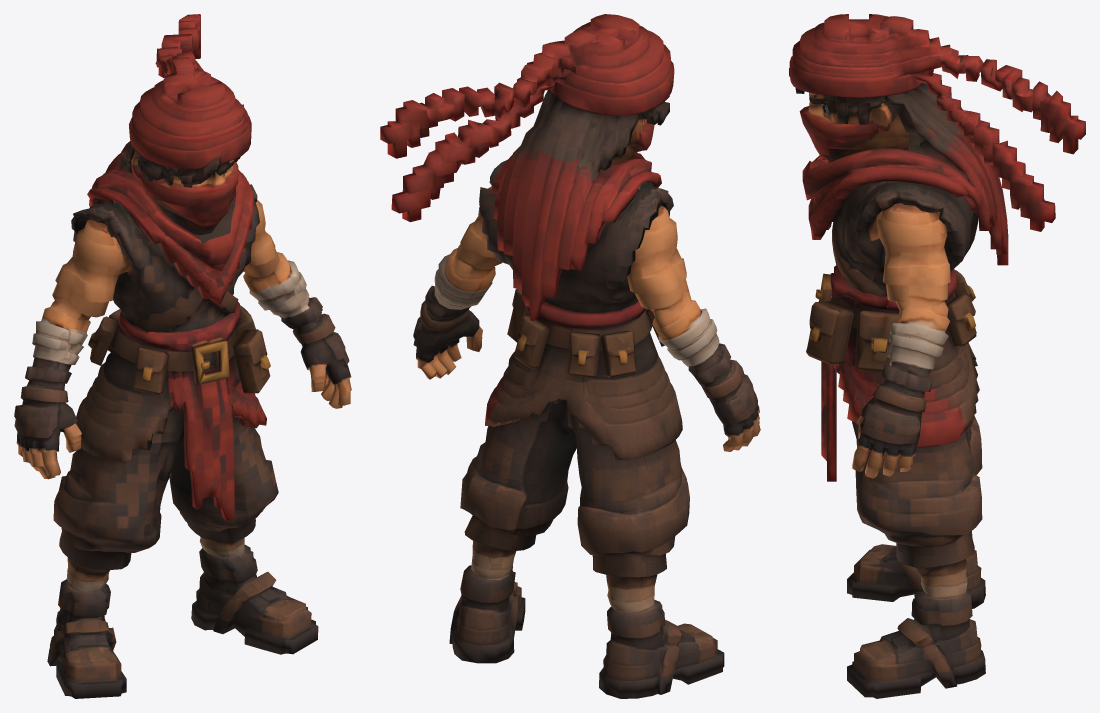
Rendered from voxel+ninja+3d+model.glb.
3 views of the same model, side by side, from view 1: azimuth 30°, elevation 25°; view 2: azimuth 150°, elevation 25°; view 3: azimuth 270°, elevation 25° (orthographic). The views are drawn at different scales.
Visible parts, largest first — view 1: tripo_node_9f31ab8d-a407-4b22-b6df-820327e387b6; view 2: tripo_node_9f31ab8d-a407-4b22-b6df-820327e387b6; view 3: tripo_node_9f31ab8d-a407-4b22-b6df-820327e387b6.
Part boxes in pixels (x1,y1,x2,y2): tripo_node_9f31ab8d-a407-4b22-b6df-820327e387b6: [14, 14, 351, 698]; tripo_node_9f31ab8d-a407-4b22-b6df-820327e387b6: [380, 14, 760, 698]; tripo_node_9f31ab8d-a407-4b22-b6df-820327e387b6: [789, 14, 1085, 698].
Bounding box in the file's own units: 0.5659 × 0.9995 × 0.436.
1 material, 1 textured.
